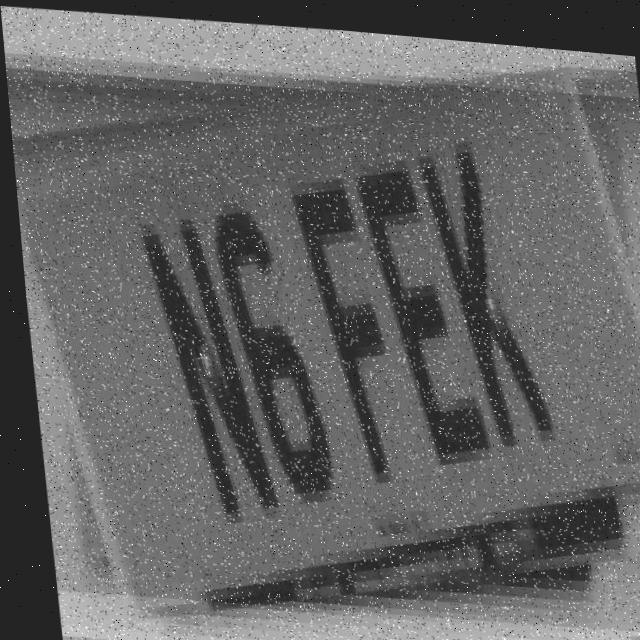LicensePlate: (3, 41, 640, 634)
